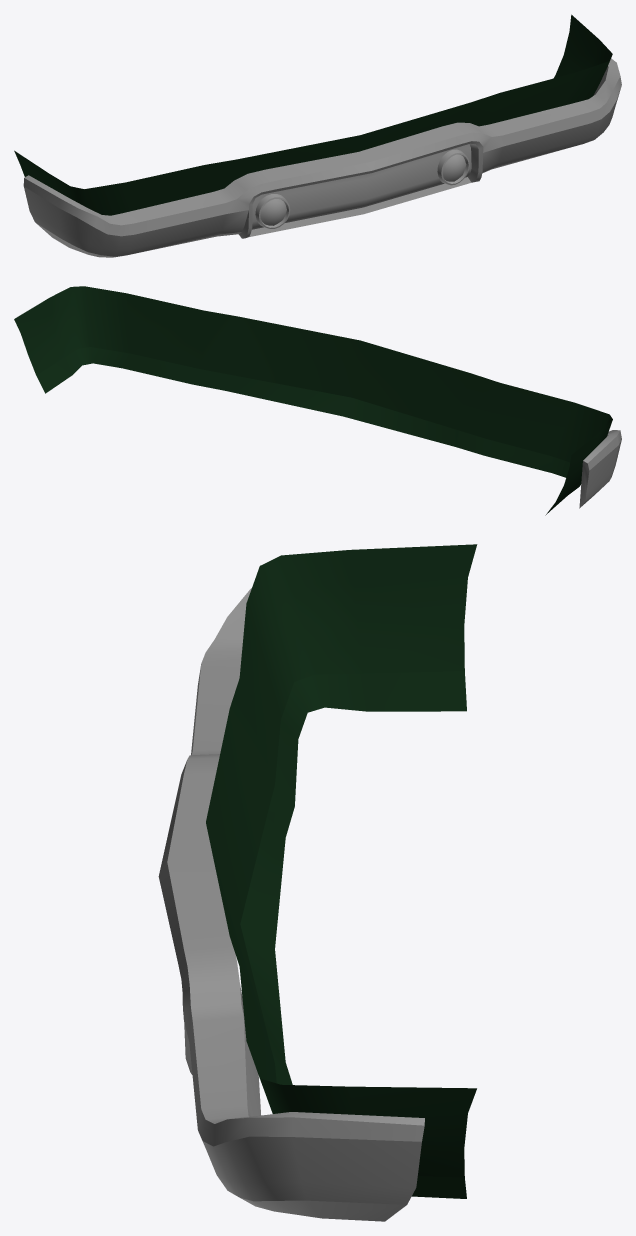
File: DC3_Sport_2_Bumper_F_3.FBX
3 views of the same model, one above another, from view 1: azimuth 30°, elevation 25°; view 2: azimuth 150°, elevation 25°; view 3: azimuth 270°, elevation 25° (orthographic). The views are drawn at different scales.
Visible parts, largest first — view 1: DC3_Sport_2_Bumper_F_3; view 2: DC3_Sport_2_Bumper_F_3; view 3: DC3_Sport_2_Bumper_F_3.
Boxes of the visible parts, bbox=[...] form: DC3_Sport_2_Bumper_F_3: bbox=[14, 14, 621, 257]; DC3_Sport_2_Bumper_F_3: bbox=[14, 286, 621, 515]; DC3_Sport_2_Bumper_F_3: bbox=[158, 544, 477, 1221].
Size of the model in its own units: 188 by 25.34 by 45.92.
